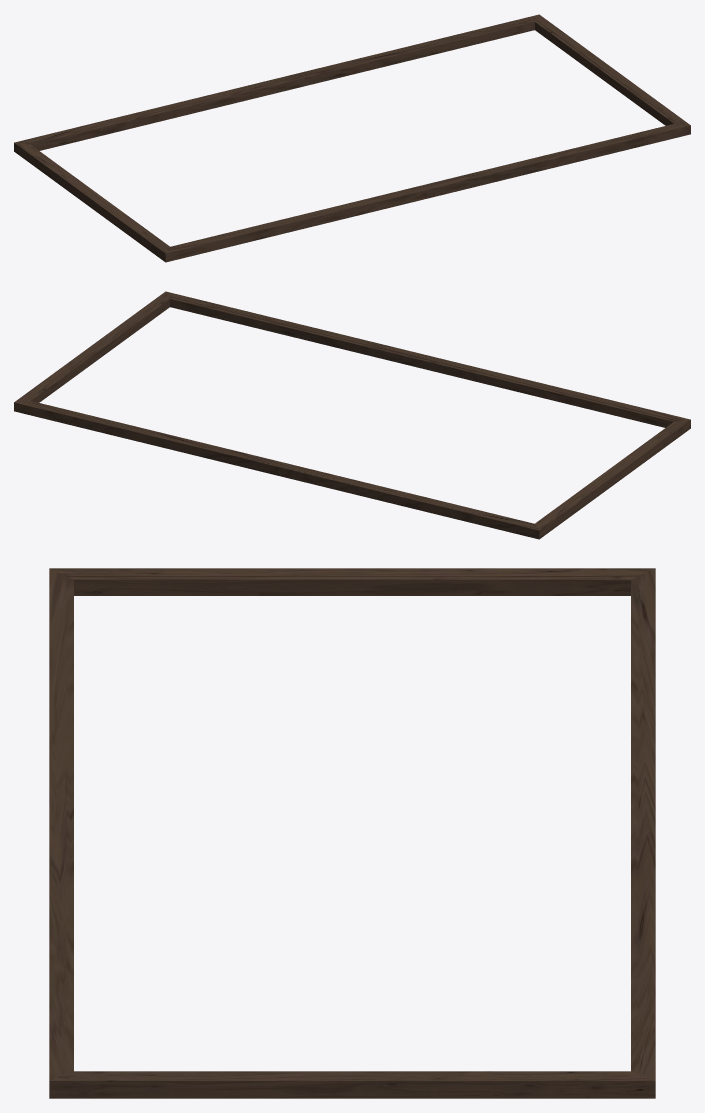
The model's file is Raam100x200-donkerbruin.dae.
3 views of the same model, one above another, from view 1: azimuth 30°, elevation 25°; view 2: azimuth 150°, elevation 25°; view 3: azimuth 270°, elevation 25° (orthographic). The views are drawn at different scales.
Parts seen in each view (by area): view 1: Raam_geo; view 2: Raam_geo; view 3: Raam_geo.
Part boxes in pixels (<box>): Raam_geo: <box>14,14,690,262</box>; Raam_geo: <box>14,291,690,539</box>; Raam_geo: <box>49,568,655,1098</box>.
Bounding box in the file's own units: 200 × 3.25 × 100.
Materials: 1 (1 with a texture image).
